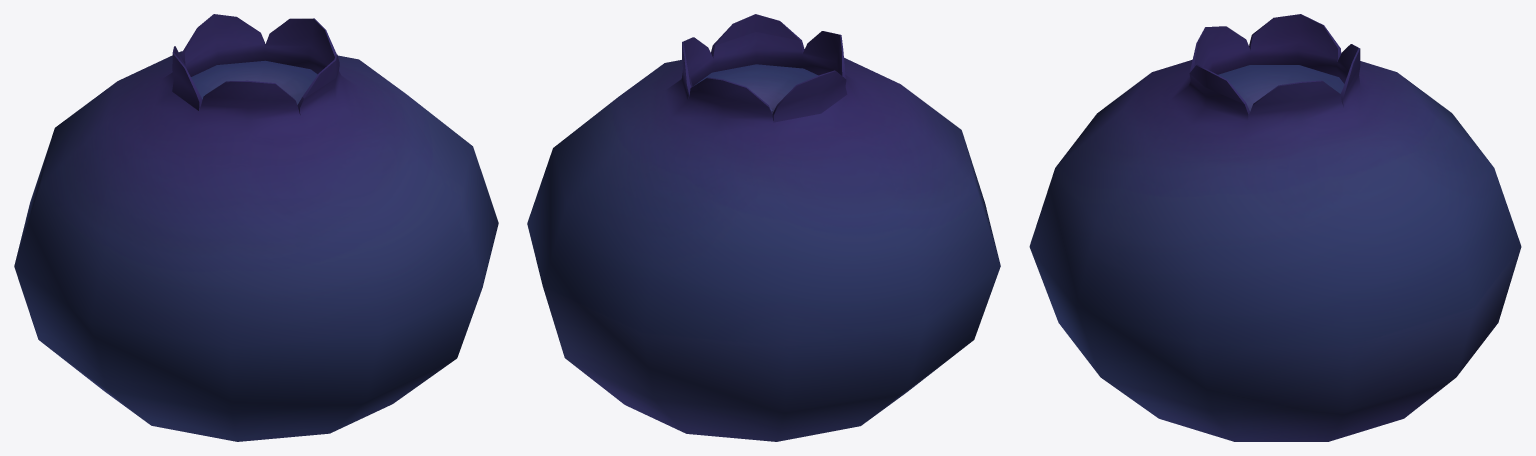
Rendered from blueberries3.fbx.
3 views of the same model, side by side, from view 1: azimuth 30°, elevation 25°; view 2: azimuth 150°, elevation 25°; view 3: azimuth 270°, elevation 25° (orthographic). The views are drawn at different scales.
Parts seen in each view (by area): view 1: 블루베리.013; view 2: 블루베리.013; view 3: 블루베리.013.
Part boxes in pixels (box(x1,y1,x2,y2)): 블루베리.013: box(14, 14, 498, 441); 블루베리.013: box(527, 14, 1000, 441); 블루베리.013: box(1029, 14, 1521, 441).
Bounding box in the file's own units: 181 × 158 × 191.
